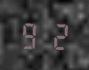nine: (19, 19, 43, 49)
two: (44, 19, 68, 50)
